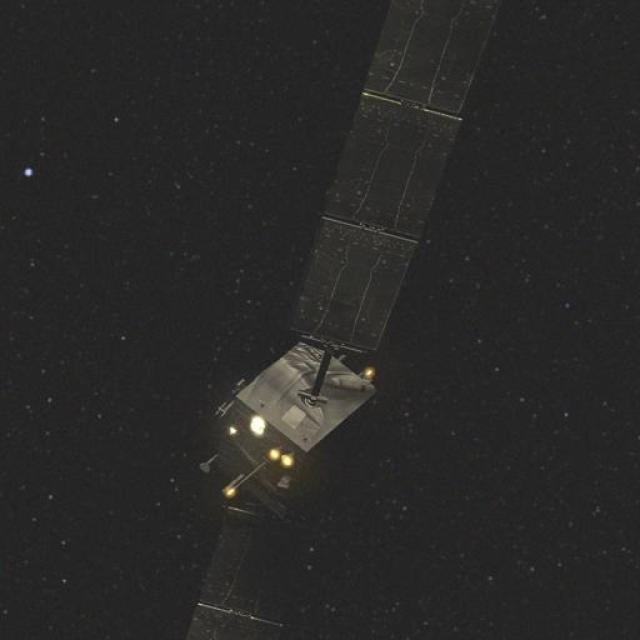smart_1: (124, 35, 478, 640)
